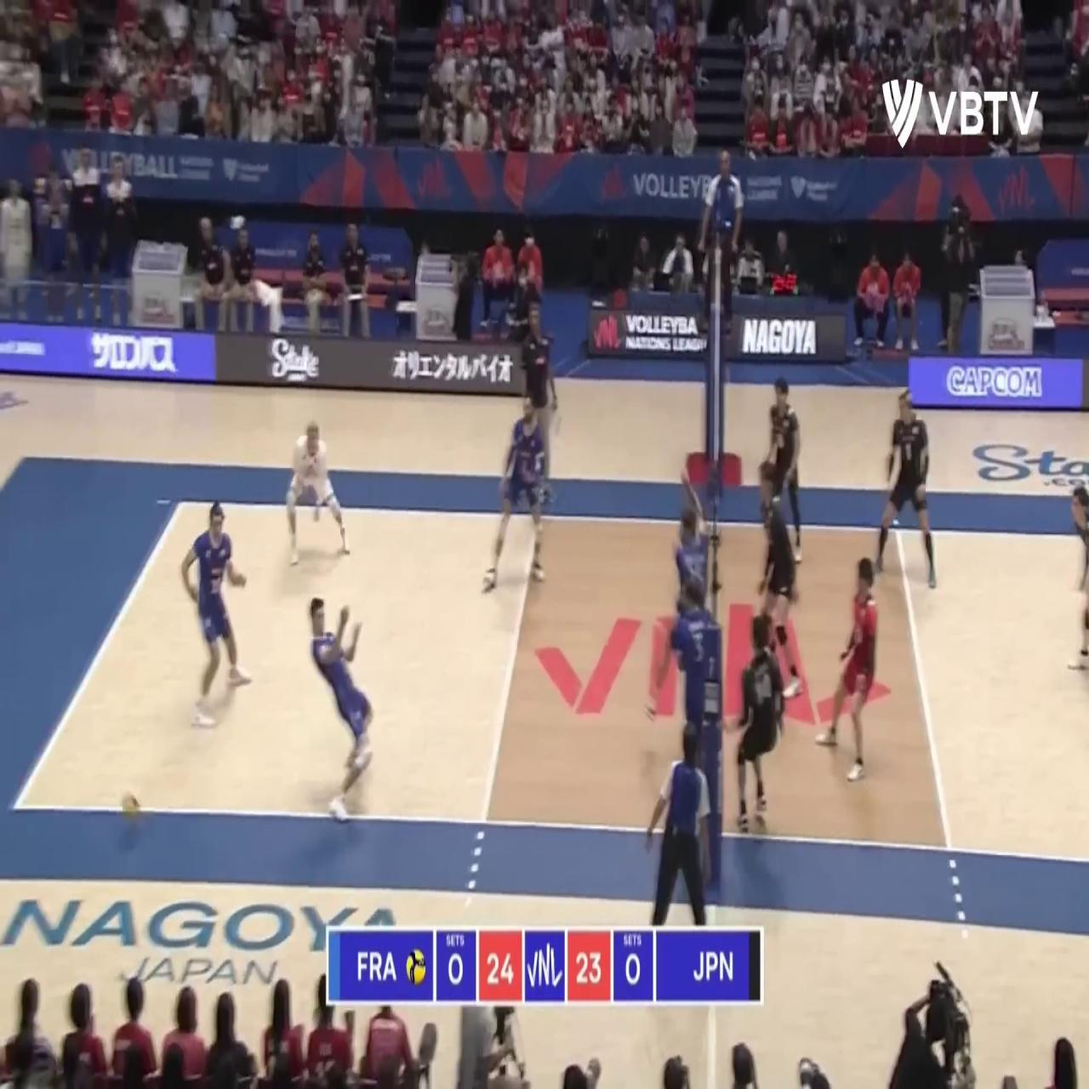ball: (121, 790, 139, 820)
